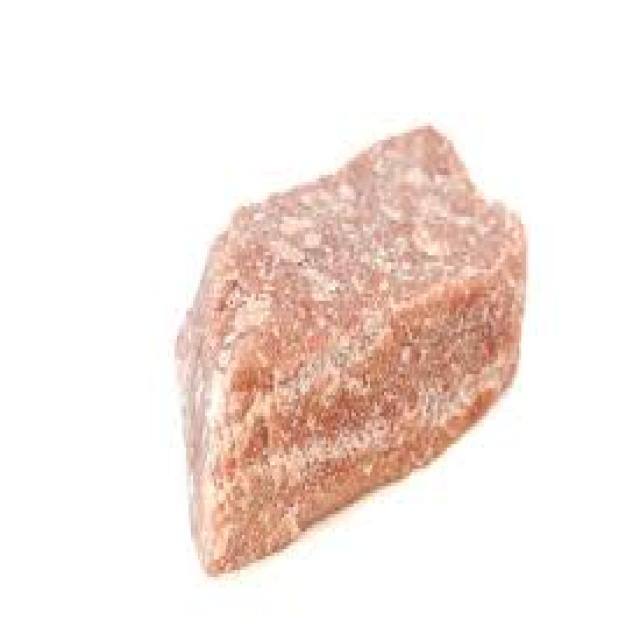Metamorphic: (167, 108, 547, 570)
